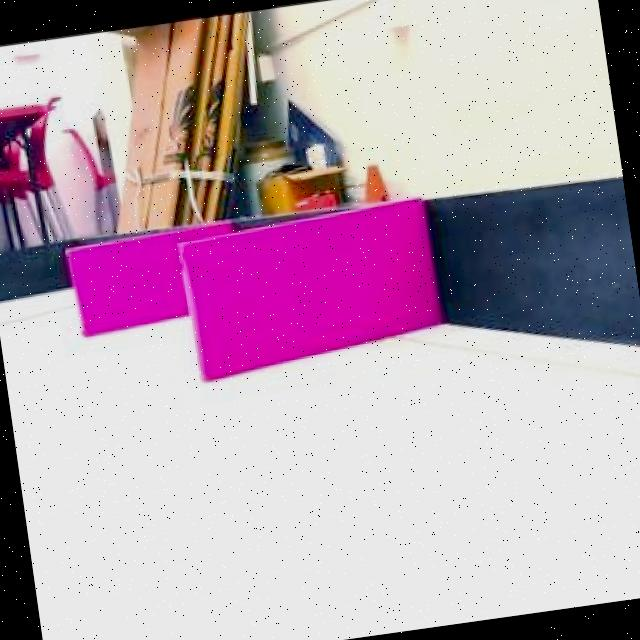xparking: (178, 202, 440, 370), (66, 230, 182, 340)
